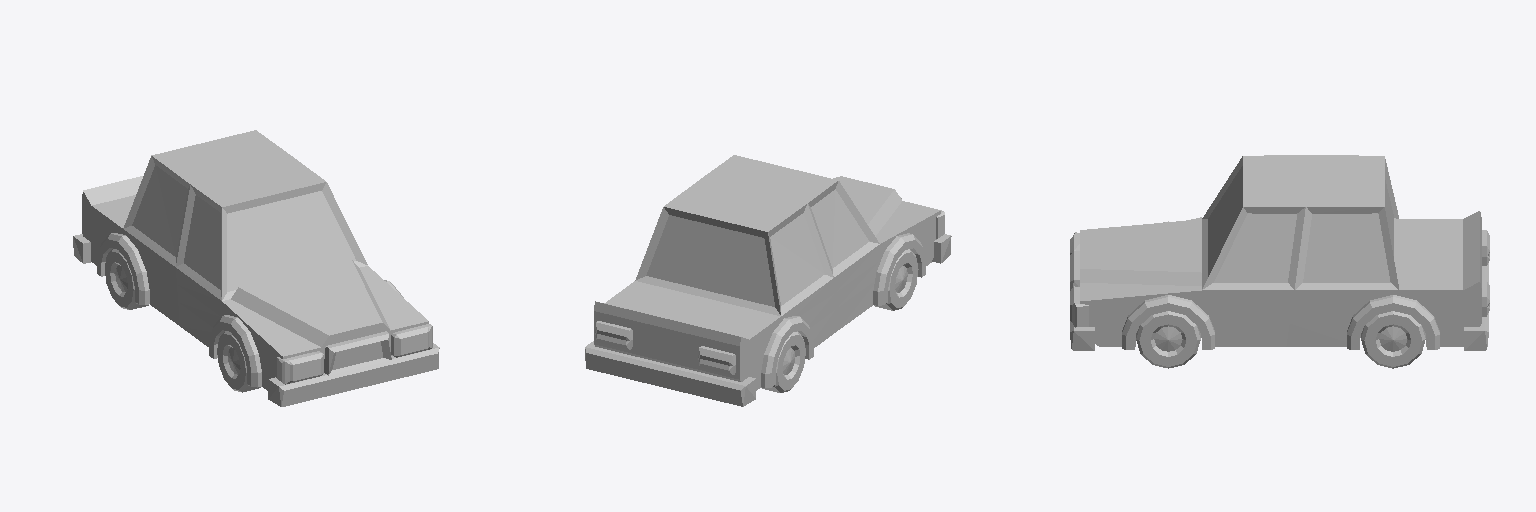
Rendered from car_sedan_full.obj.
The picture shows the model from 3 angles: view 1: azimuth 30°, elevation 25°; view 2: azimuth 150°, elevation 25°; view 3: azimuth 270°, elevation 25°; orthographic projection.
Parts seen in each view (by area): view 1: car_sedan_Cube.13729, car_sedan_wheel_rear_right_Cylinder.294, car_sedan_wheel_front_right_Cylinder.293; view 2: car_sedan_Cube.13729, car_sedan_wheel_front_right_Cylinder.293, car_sedan_wheel_rear_right_Cylinder.294; view 3: car_sedan_Cube.13729, car_sedan_wheel_front_left_Cylinder.291, car_sedan_wheel_rear_left_Cylinder.292.
Part boxes in pixels (bbox=[...]): car_sedan_Cube.13729: bbox=[73, 130, 439, 406]; car_sedan_wheel_rear_right_Cylinder.294: bbox=[105, 249, 148, 309]; car_sedan_wheel_front_right_Cylinder.293: bbox=[217, 331, 260, 392]; car_sedan_Cube.13729: bbox=[585, 155, 951, 406]; car_sedan_wheel_front_right_Cylinder.293: bbox=[874, 249, 918, 310]; car_sedan_wheel_rear_right_Cylinder.294: bbox=[761, 331, 805, 392]; car_sedan_Cube.13729: bbox=[1070, 155, 1489, 350]; car_sedan_wheel_front_left_Cylinder.291: bbox=[1136, 311, 1200, 368]; car_sedan_wheel_rear_left_Cylinder.292: bbox=[1361, 311, 1425, 368].
Bounding box in the file's own units: 0.419 × 0.3688 × 0.9381.